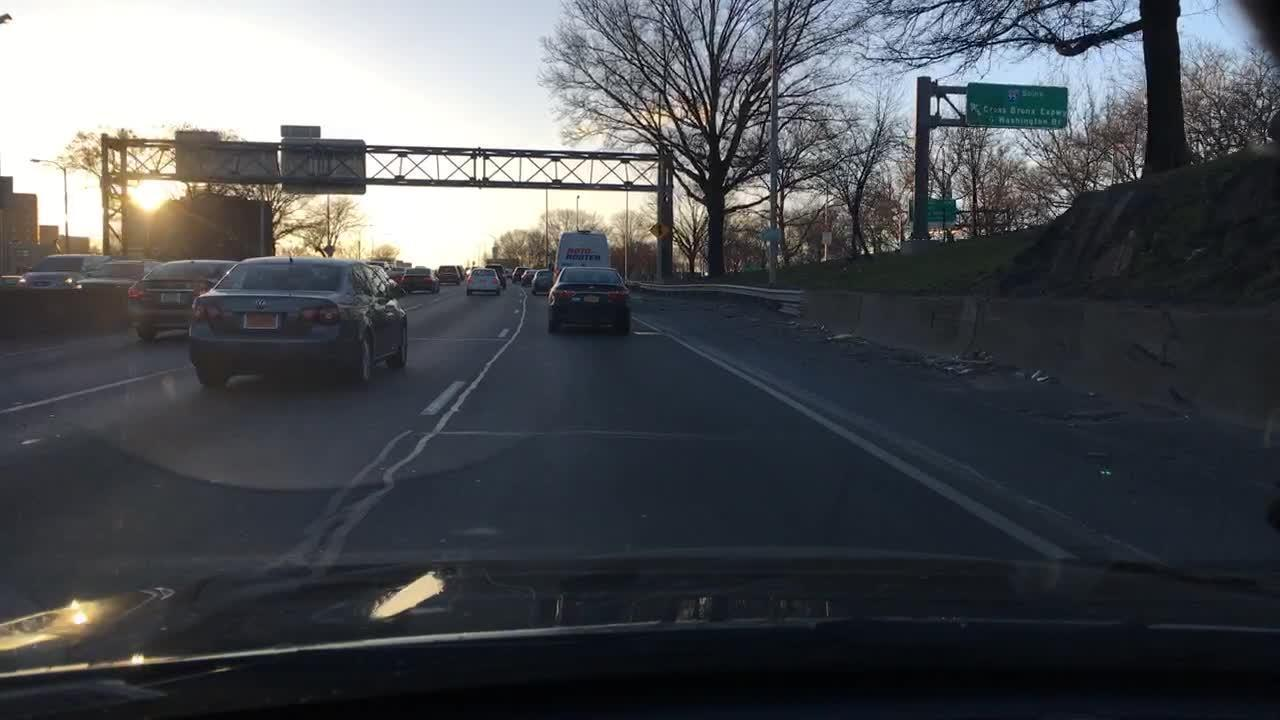Volkswagen: (250, 297, 273, 310)
